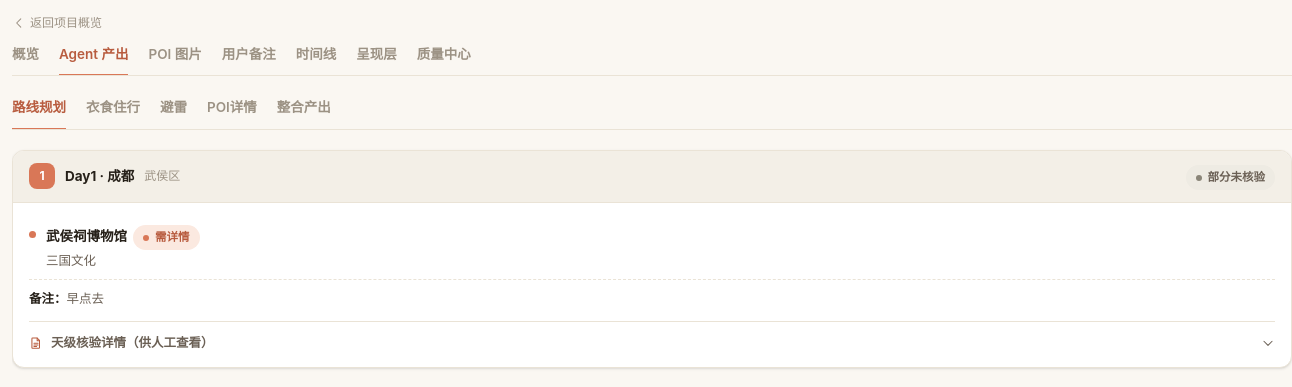
Test: AgentOutputsPage › switches to lifestyle/pitfall/integration tabs without crashing
The width and height of the screenshot is (1292, 387).
Click the button "衣食住行".
click(113, 113)  # box [86, 97, 140, 130]
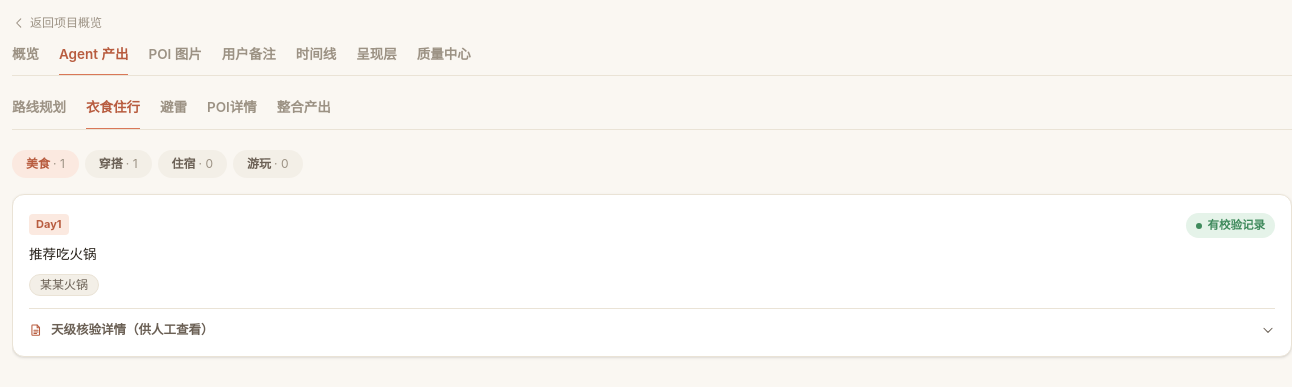
Expected: the text "推荐吃火锅" is shown, [29, 246, 96, 262]
Click the button "避雷".
click(174, 113)  # box [160, 97, 187, 130]
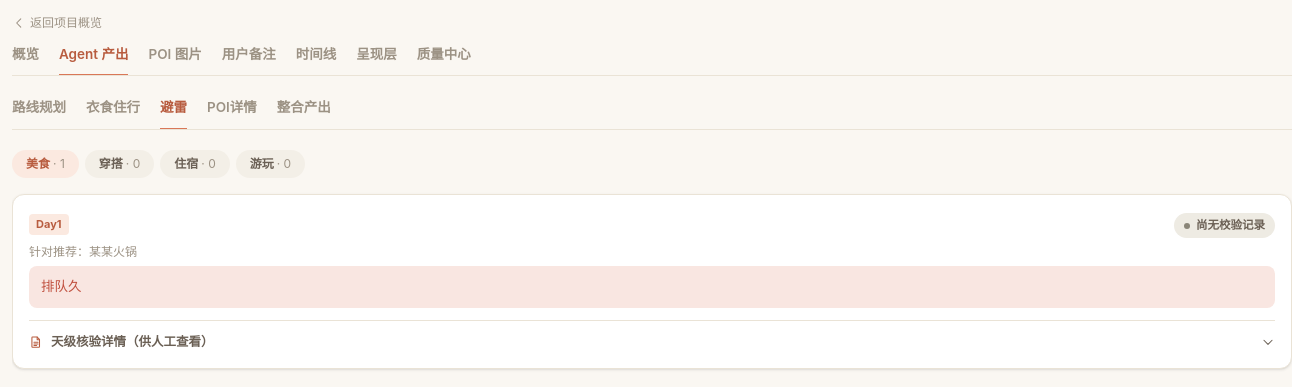
Expected: the text "排队久" is shown, [29, 266, 1275, 308]
Click the button "整合产出".
click(304, 113)  # box [277, 97, 331, 130]
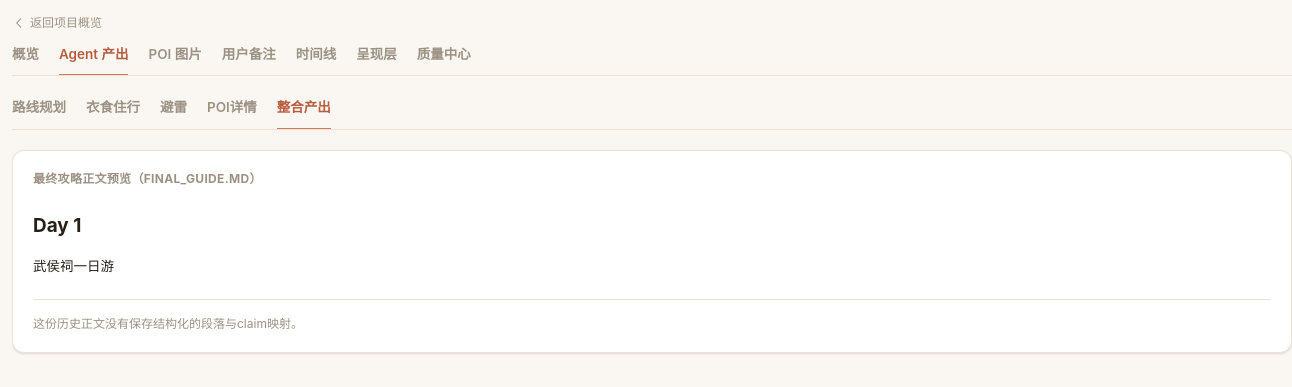
Expected: the text "武侯祠一日游" is shown, [33, 258, 114, 274]
